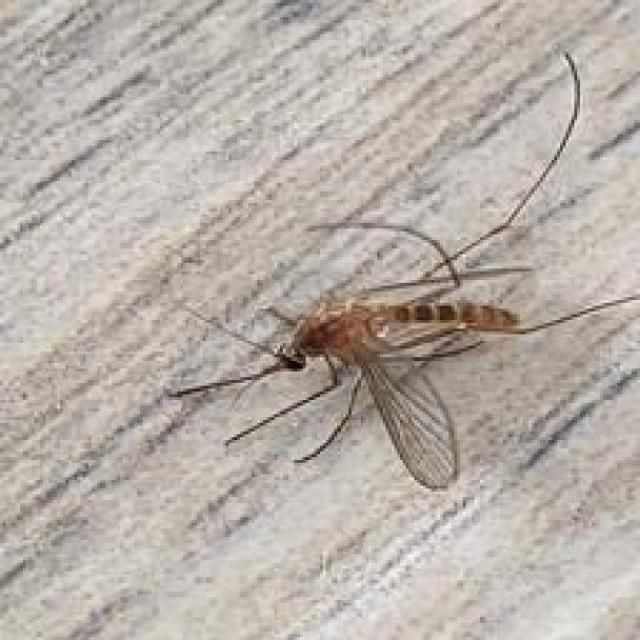Culex: (165, 50, 640, 493)
